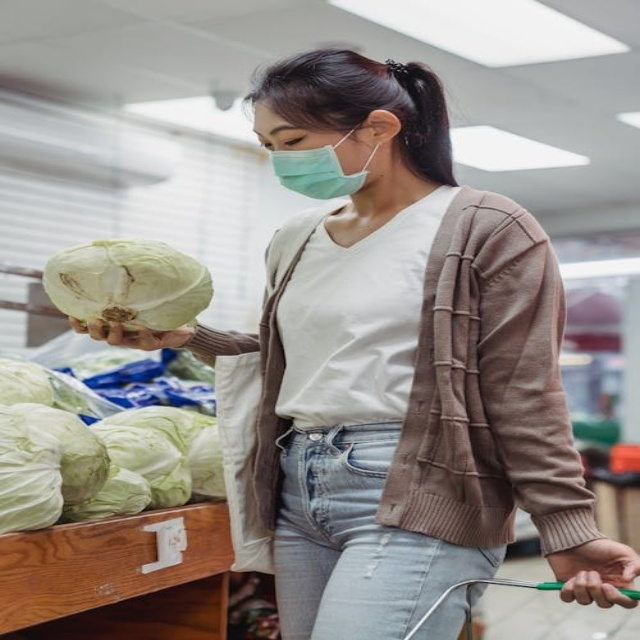Mascara: (267, 122, 376, 200)
Sin_gafas: (248, 122, 329, 152)
Sin_guantes: (538, 536, 637, 614), (59, 310, 197, 354)
